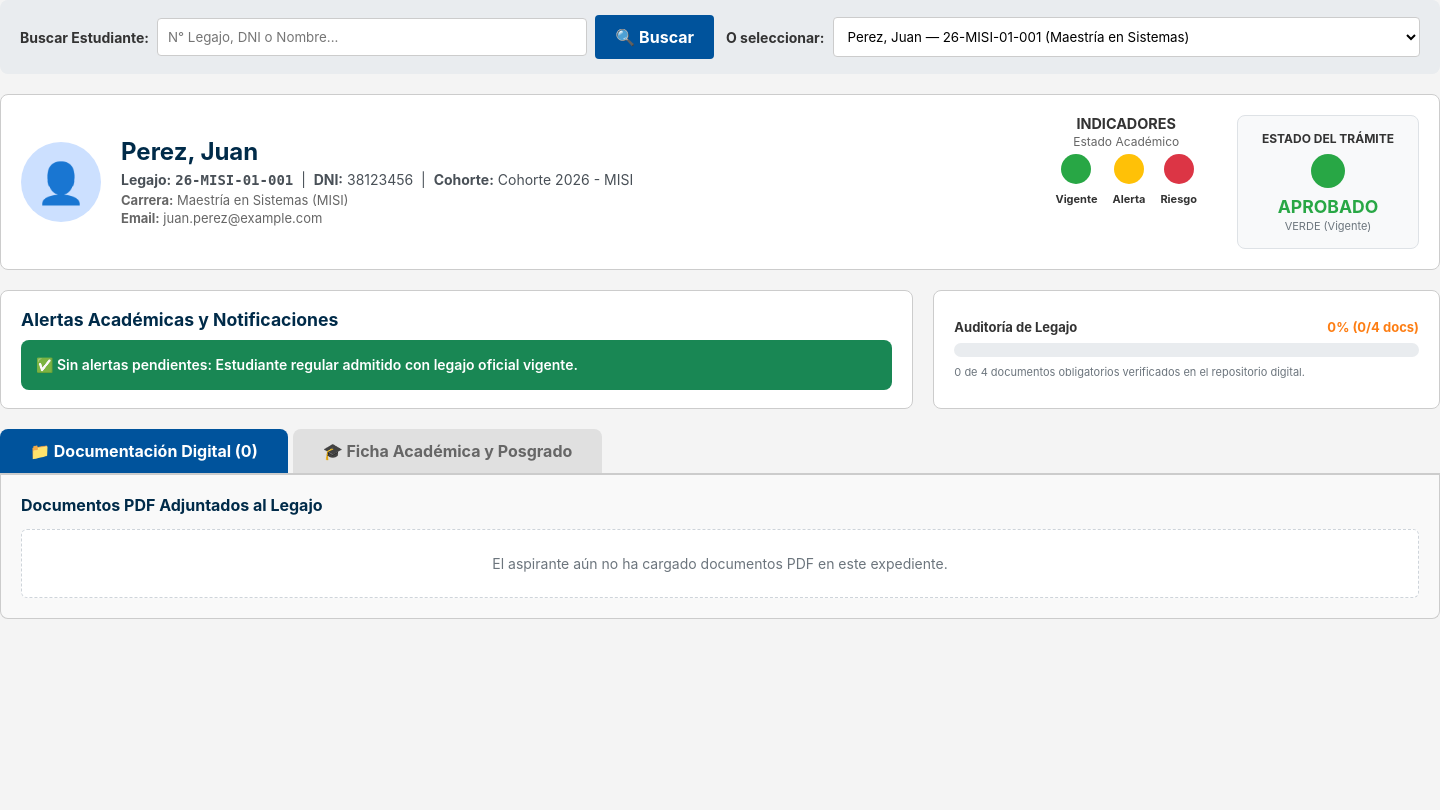
Test: PanelConduccionEstudiante Component › permite buscar y seleccionar otro estudiante observando su motivo
Expected: the heading "Perez, Juan" is shown, [121,136,258,166]
In the field with placeholder "N° Legajo, DNI o Nombre...": (372, 37) [157,18,587,56], type "Gomez"
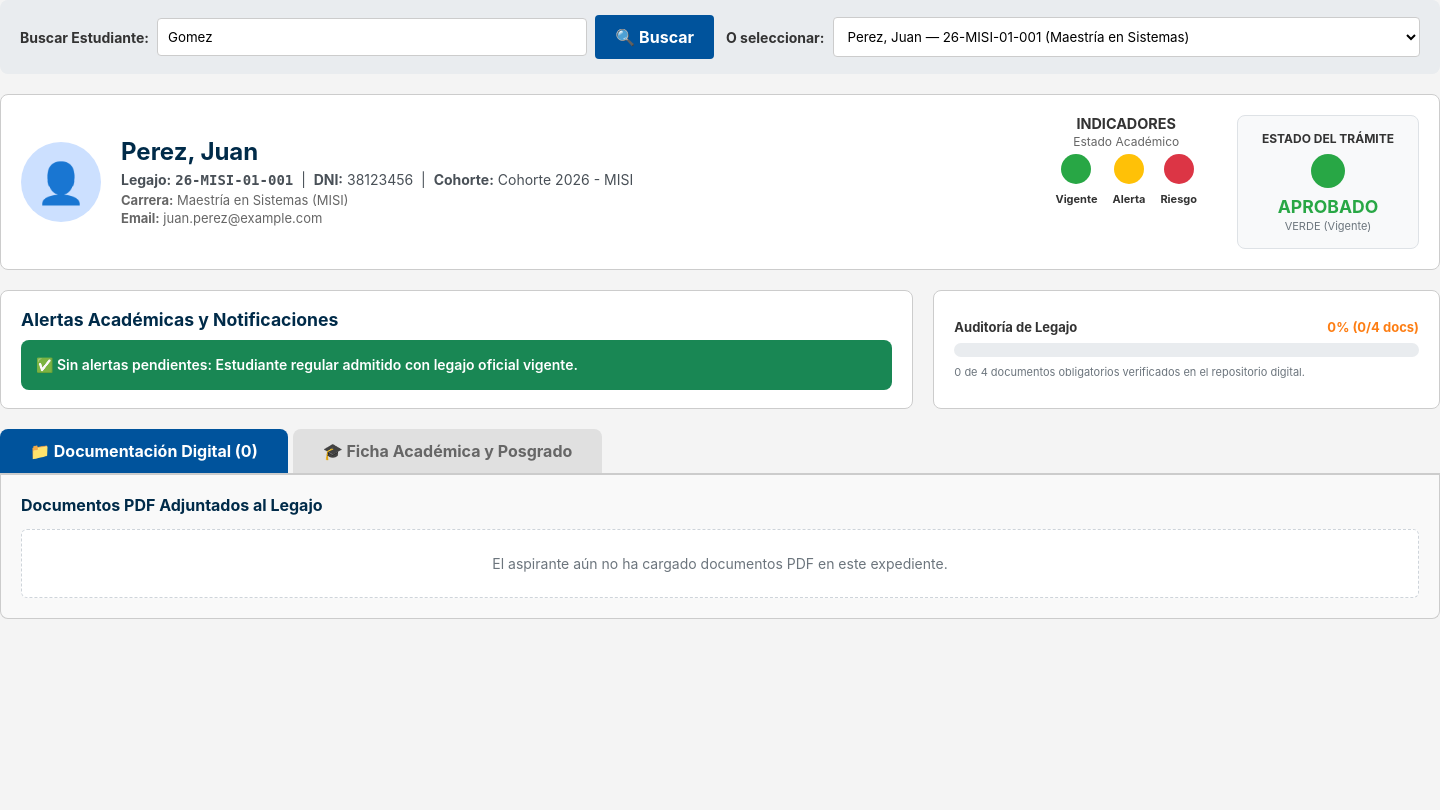
Click the button "🔍 Buscar": (655, 37) [595,15,714,59]
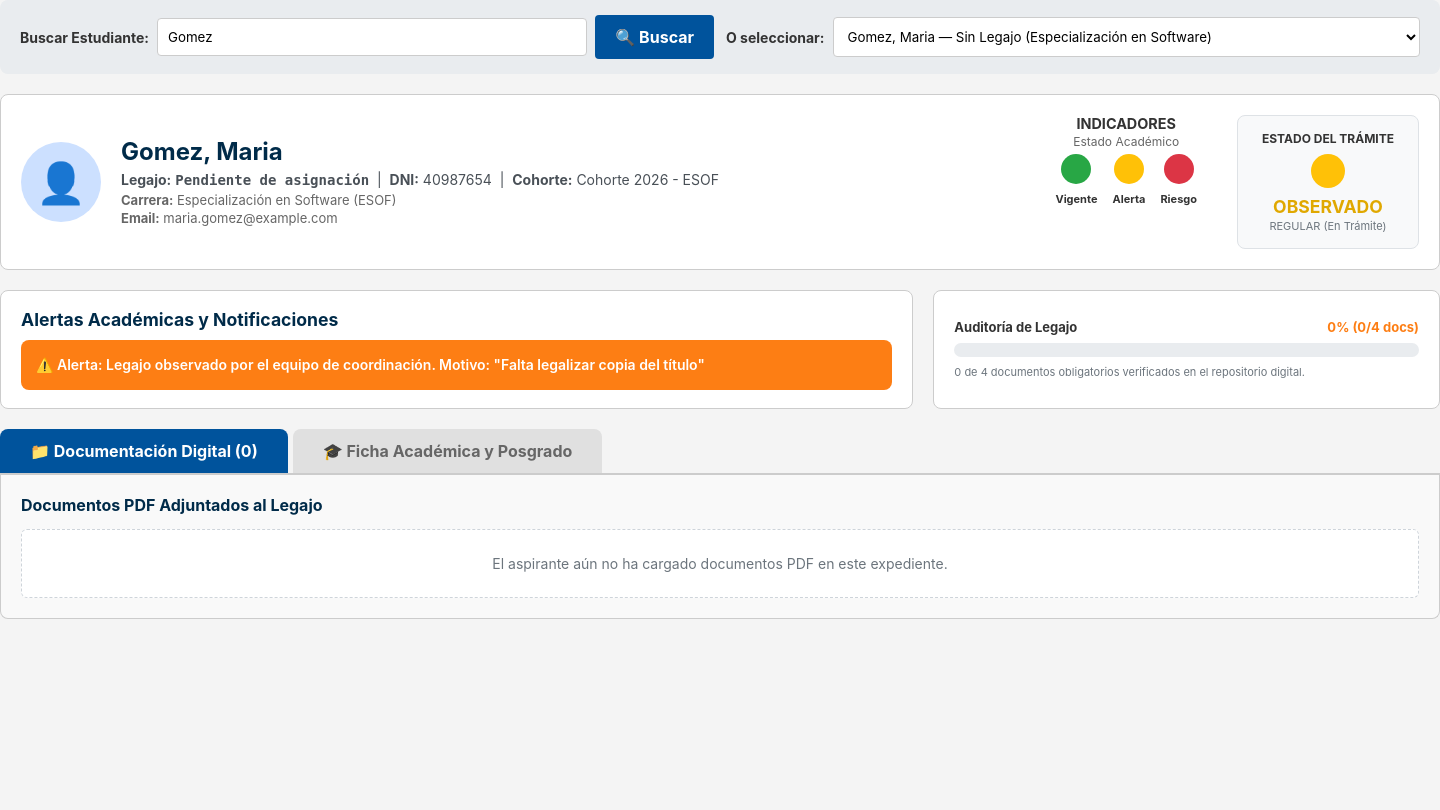
Result: the heading "Gomez, Maria" is shown at [121,136,283,166]
Result: the text "Falta legalizar copia del título" is shown at [36,356,705,373]
Result: the text "OBSERVADO" is shown at [1273,196,1383,217]
